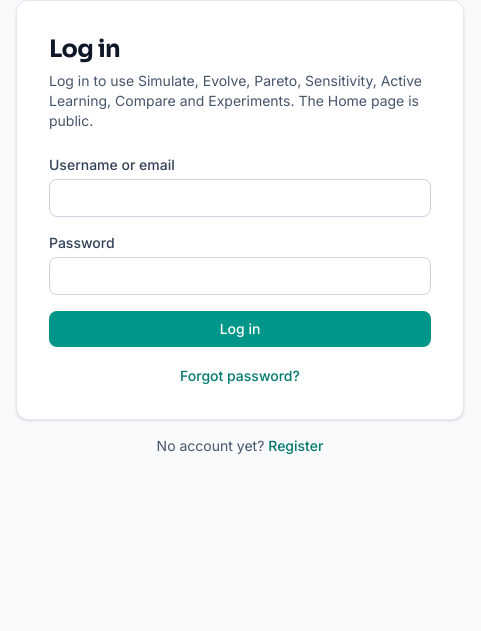
Test: Login page › shows "email not verified" hint on 403
Step 1. Type "alice" into the field labelled "Username or email" → [240, 198], box [49,179,431,217]
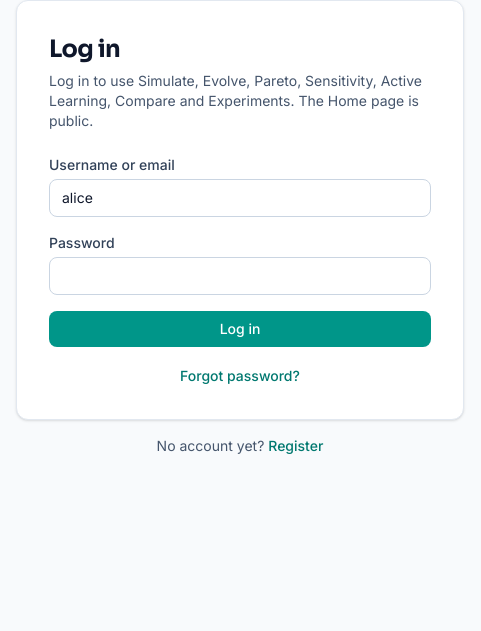
Step 2. Type "pw" into the password field labelled "Password" → [240, 276], box [49,257,431,295]
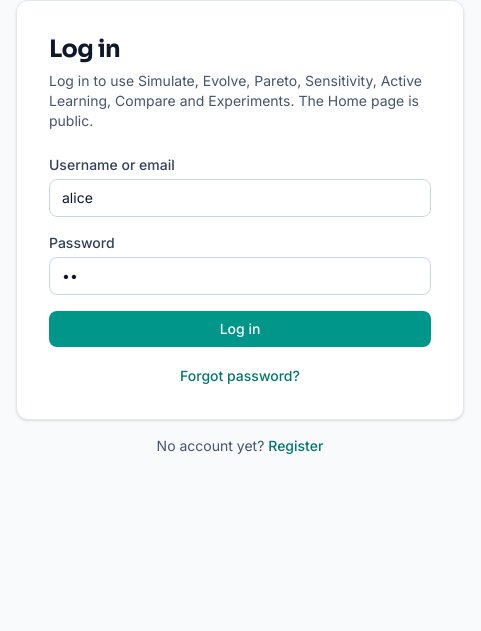
Step 3. Click the button "Log in" → [240, 329], box [49,311,431,347]
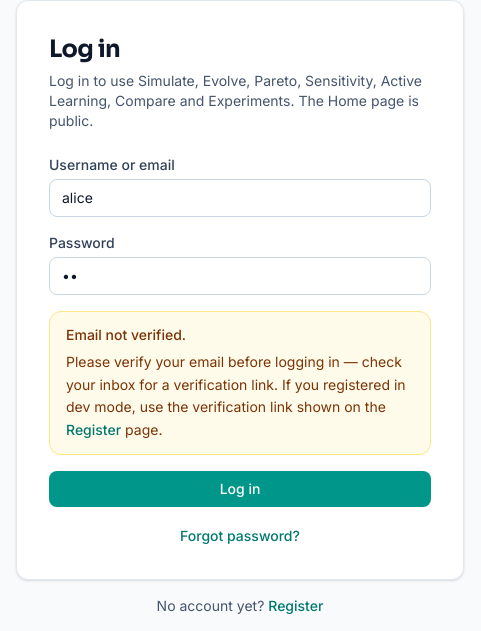
Now the message shows "Email not verified", box [66,326,186,343]
